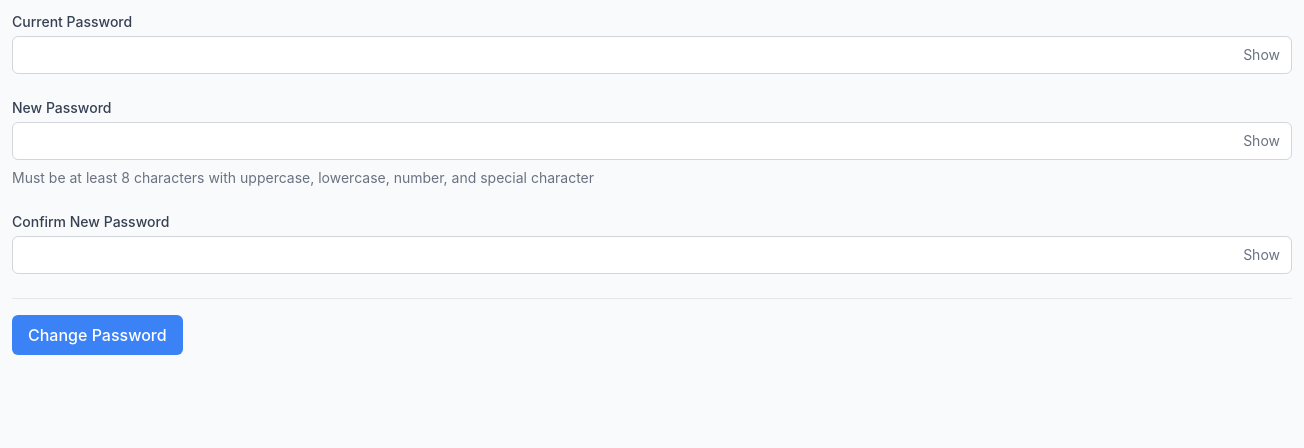
Test: ChangePasswordForm - Security › clears password fields after successful password change
Type "OldP@ssword123" into the password field labelled "Current Password".
click(652, 55); type("OldP@ssword123")  # box [12,36,1292,74]
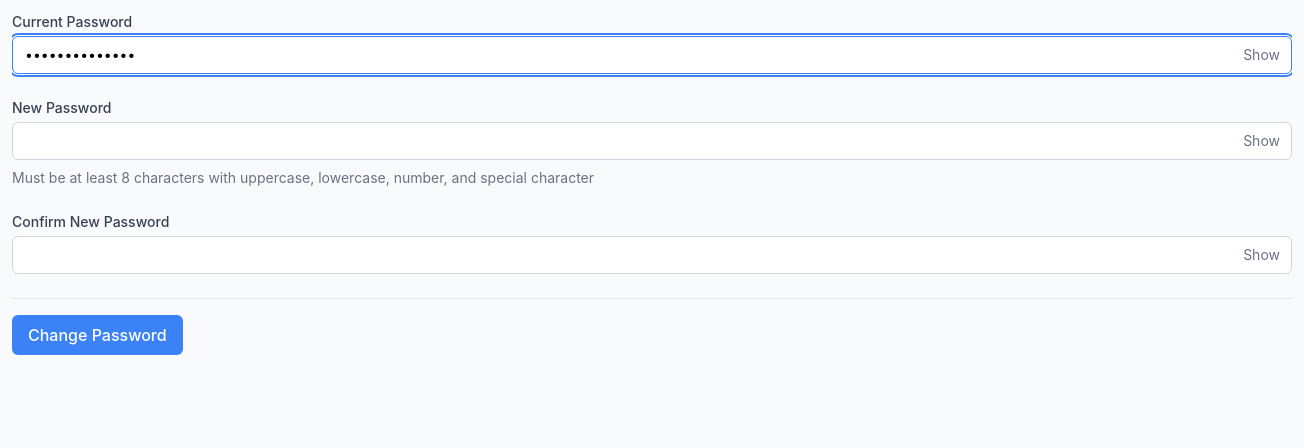
Type "NewP@ssword456" into the password field labelled "New Password".
click(652, 141); type("NewP@ssword456")  # box [12,122,1292,160]
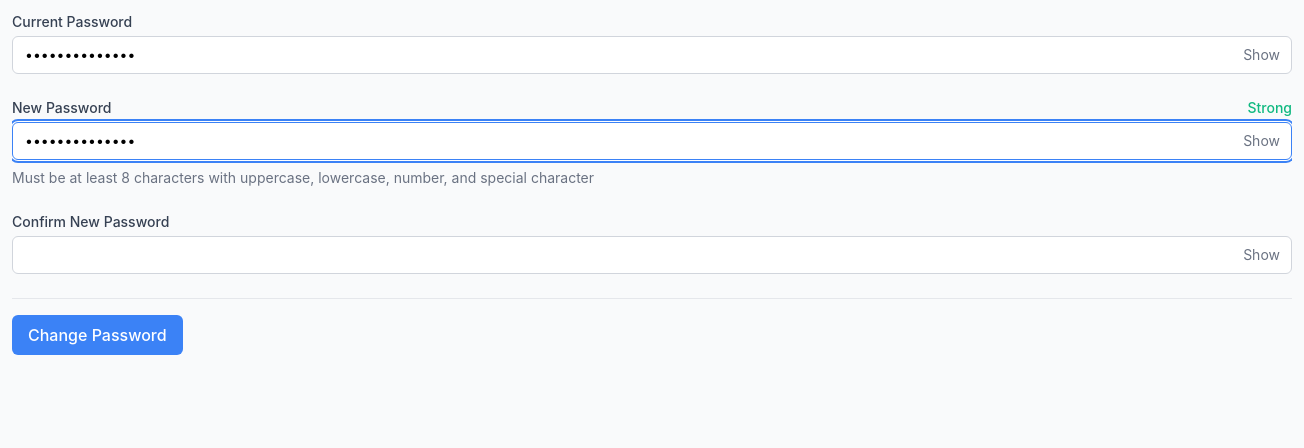
Type "NewP@ssword456" into the password field labelled "Confirm New Password".
click(652, 255); type("NewP@ssword456")  # box [12,236,1292,274]
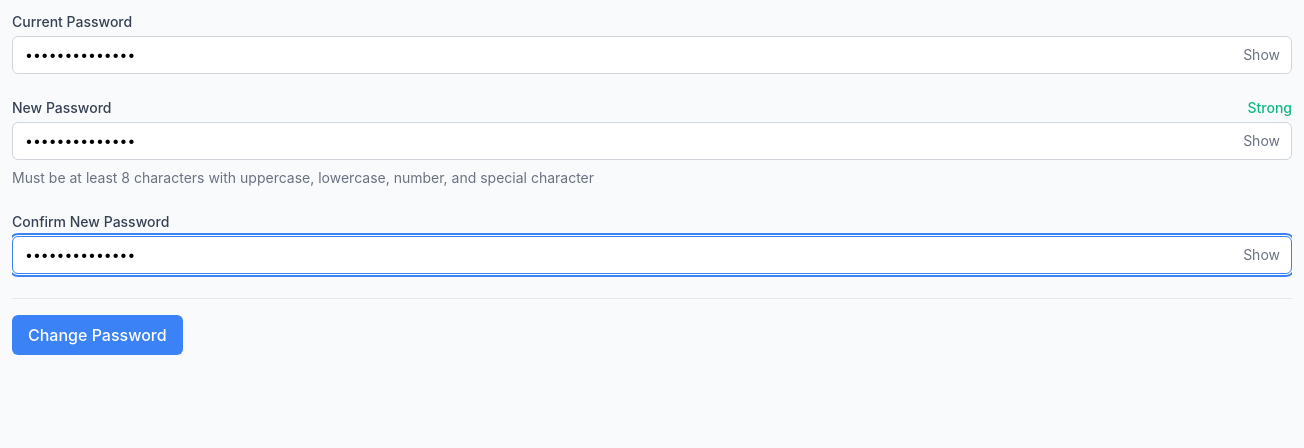
Submit the form
Click the button "Change Password".
click(97, 335)  # box [12,315,183,355]
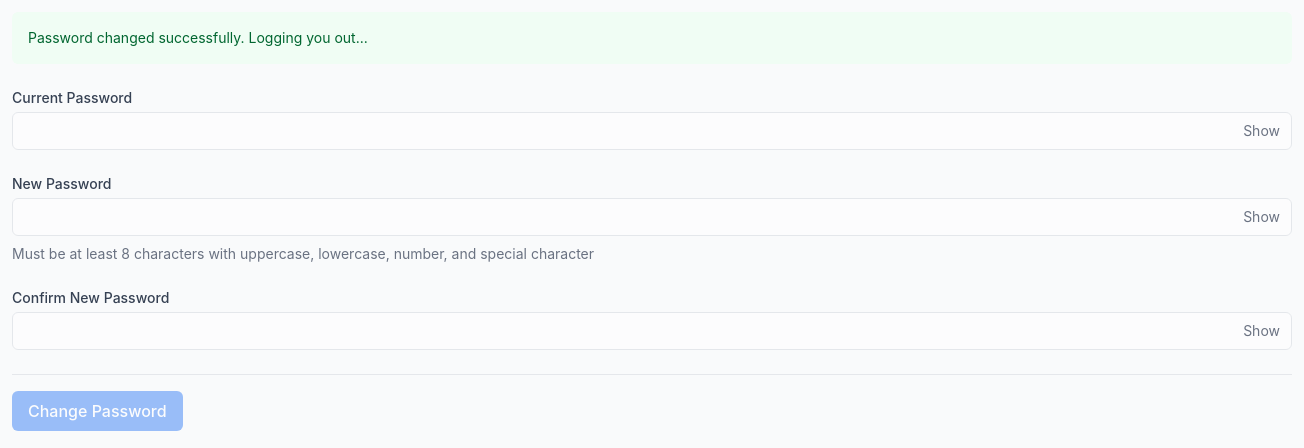
Now the text "Password changed successfully. Logging you out..." is shown, box [28,29,368,46]
Now the password field labelled "Current Password" is empty, box [12,112,1292,150]
Now the password field labelled "New Password" is empty, box [12,198,1292,236]
